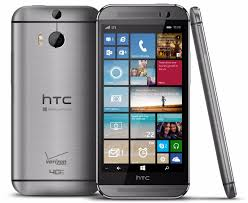htc: (95, 1, 193, 200), (8, 2, 97, 197)
